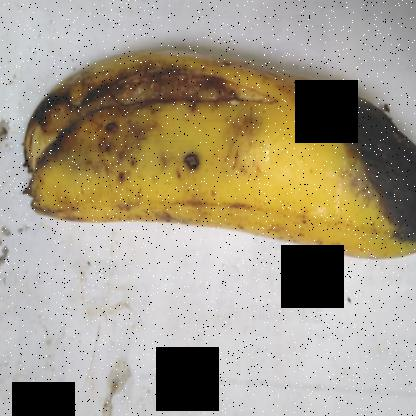rotten: (17, 16, 260, 226), (320, 60, 415, 284)
